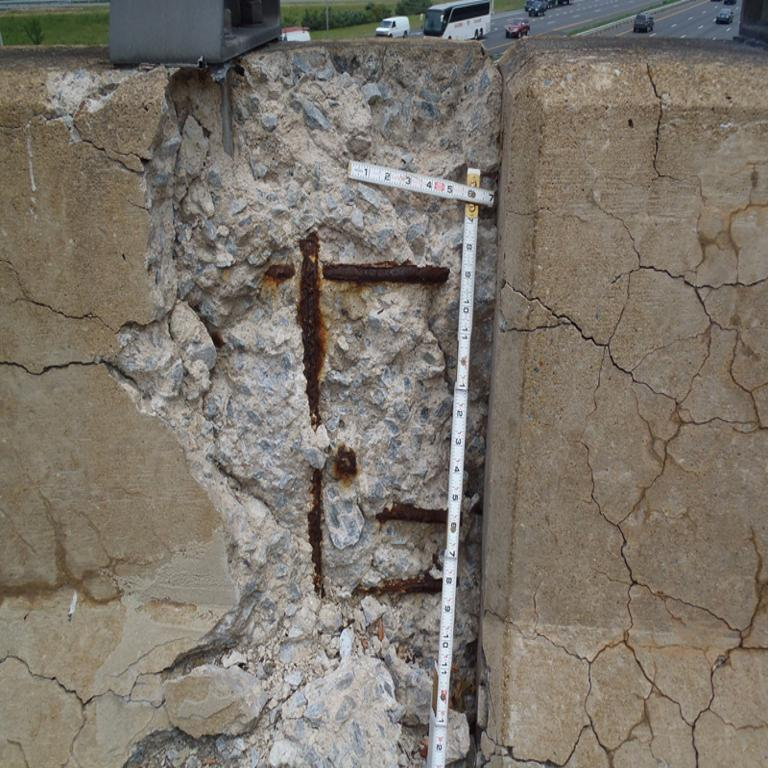exposed_rebar: (297, 232, 450, 430), (308, 468, 324, 596), (376, 502, 445, 524), (366, 574, 441, 592), (333, 446, 357, 479), (266, 266, 296, 282)
spalling: (108, 44, 501, 767)
